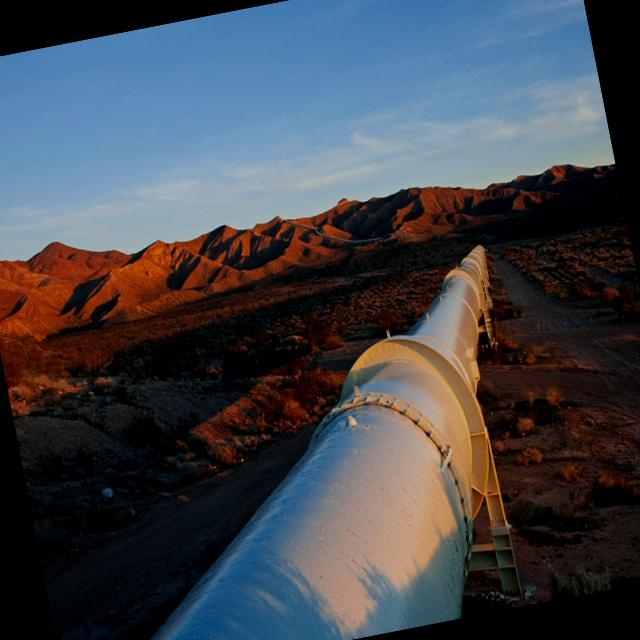gas: (151, 246, 490, 640)
